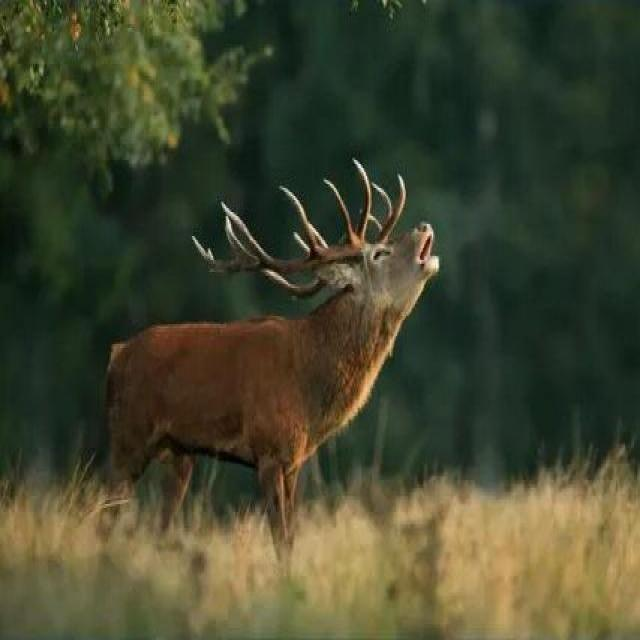deer: (91, 136, 507, 563)
